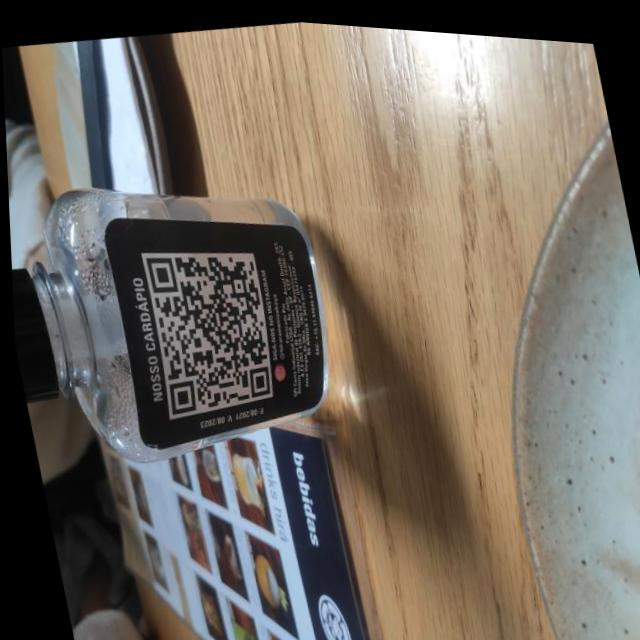qrcode: (140, 239, 281, 419)
